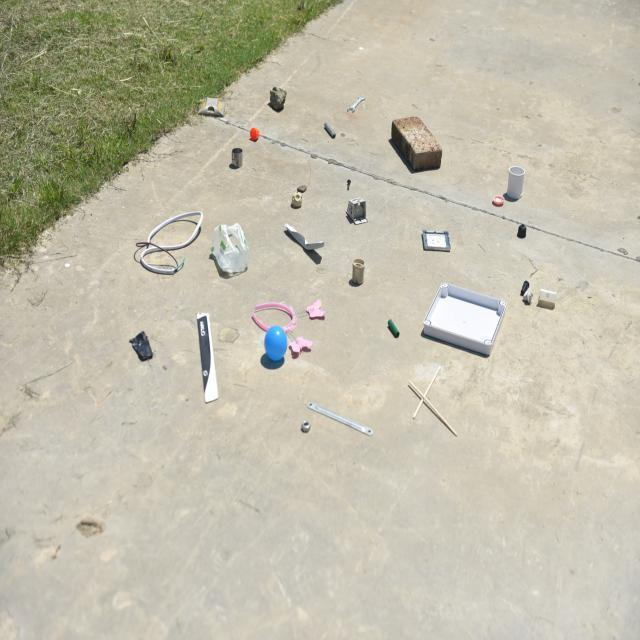Debris: (421, 275, 503, 355), (139, 199, 204, 289), (406, 373, 462, 453), (388, 113, 447, 173), (246, 292, 327, 329), (189, 312, 218, 412), (312, 388, 370, 434), (278, 214, 328, 262), (215, 216, 250, 277), (519, 283, 561, 317), (260, 323, 287, 372), (418, 222, 454, 256), (346, 180, 369, 227), (132, 322, 156, 366), (199, 92, 229, 124), (509, 163, 531, 206), (266, 82, 291, 115), (226, 146, 247, 172), (353, 83, 368, 119), (352, 256, 369, 286), (383, 312, 403, 337), (321, 118, 342, 140), (515, 219, 536, 239), (490, 188, 505, 214), (246, 124, 264, 144), (284, 195, 302, 213), (292, 183, 312, 198), (300, 418, 312, 432)
